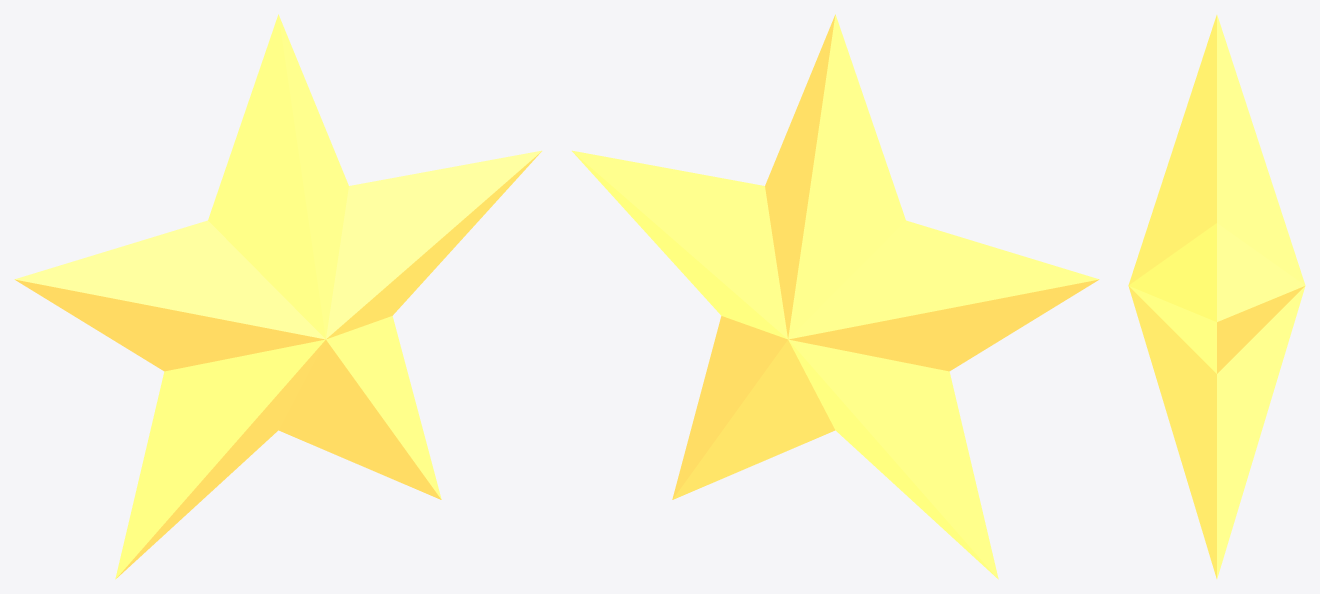
File: q_magic_star.glb
The picture shows the model from 3 angles, left to right: view 1: azimuth 30°, elevation 25°; view 2: azimuth 150°, elevation 25°; view 3: azimuth 270°, elevation 25°; orthographic projection. The views are drawn at different scales.
Parts seen in each view (by area): view 1: q_magic_star / material batches; view 2: q_magic_star / material batches; view 3: q_magic_star / material batches.
Part boxes in pixels (bbox=[...]): q_magic_star / material batches: bbox=[14, 14, 541, 579]; q_magic_star / material batches: bbox=[572, 14, 1099, 579]; q_magic_star / material batches: bbox=[1128, 15, 1305, 578].
Bounding box in the file's own units: 0.4185 × 0.398 × 0.13.
